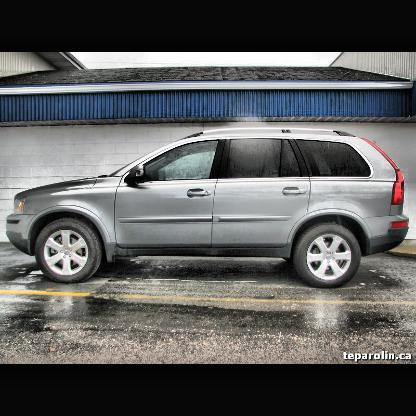Volvo XC90 SUV 2007: (8, 130, 410, 287)
